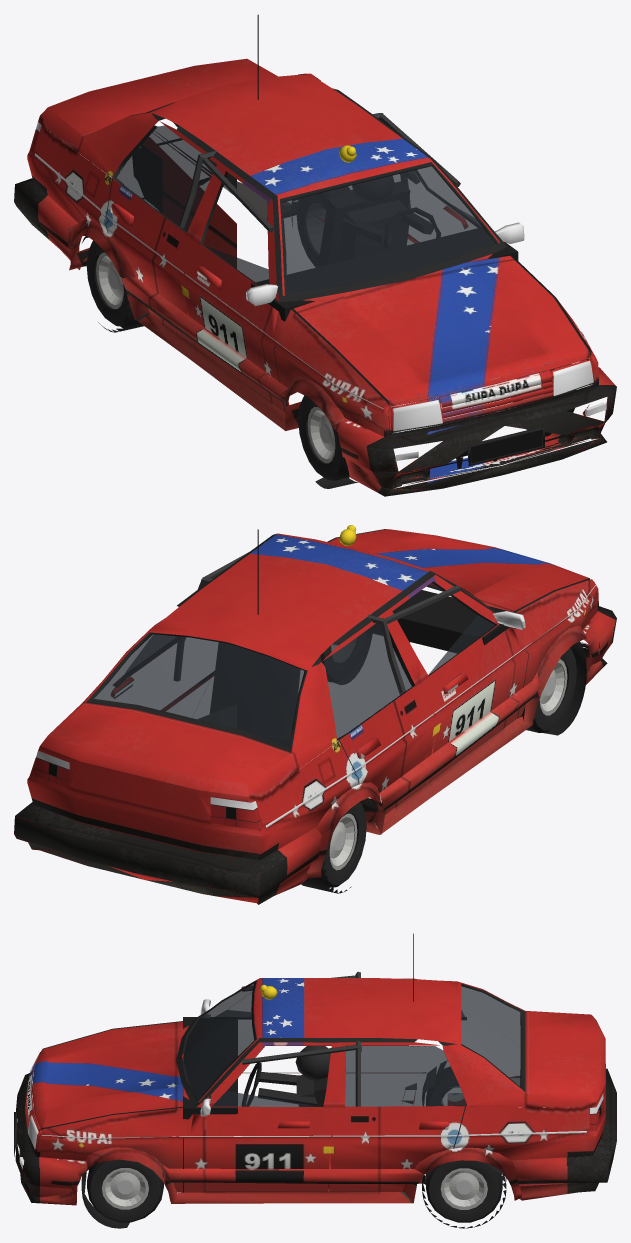
3 renders of one model, top to bottom at view 1: azimuth 30°, elevation 25°; view 2: azimuth 150°, elevation 25°; view 3: azimuth 270°, elevation 25°, orthographic. The views are drawn at different scales.
Visible parts, largest first — view 1: body, wheel_fr, wheel_rr, wheel_rl; view 2: body, wheel_rr, wheel_fr, wheel_fl; view 3: body, wheel_rl, wheel_fl, wheel_rr.
Boxes of the visible parts, x1,y1,x2,y2 form: body: (14,14,616,496); wheel_fr: (298,395,349,480); wheel_rr: (86,240,130,326); wheel_rl: (297,186,350,267); body: (14,525,616,904); wheel_rr: (322,802,366,887); wheel_fr: (519,647,576,732); wheel_fl: (320,631,366,681); body: (14,933,616,1228); wheel_rl: (426,1160,502,1222); wheel_fl: (87,1159,163,1222); wheel_rr: (426,1067,458,1105).
Size of the model in its own units: 1.86 by 1.99 by 4.4.
Materials: 2 (1 with a texture image).
